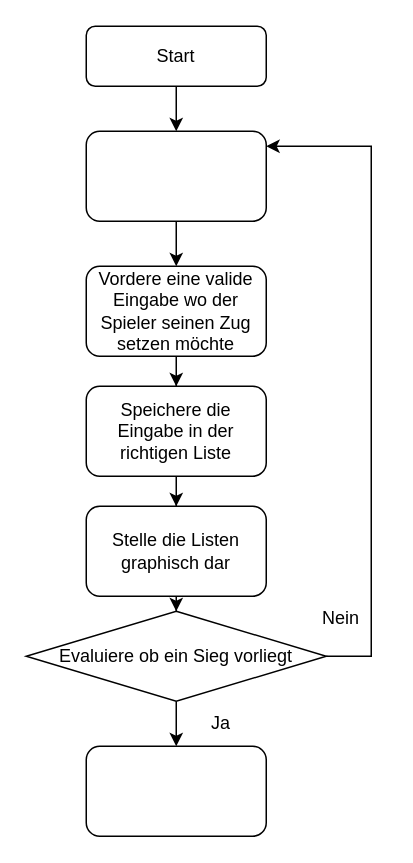
The diagram is 413 pixels wide and 863 high, and some of its shapes have lost their labels. Each missing label, with the centre of its shape:
"Der Spieler hat gewonnen 🙈" goes at pixel 175 790.
"Setze den spielenden Spieler" goes at pixel 175 175.
